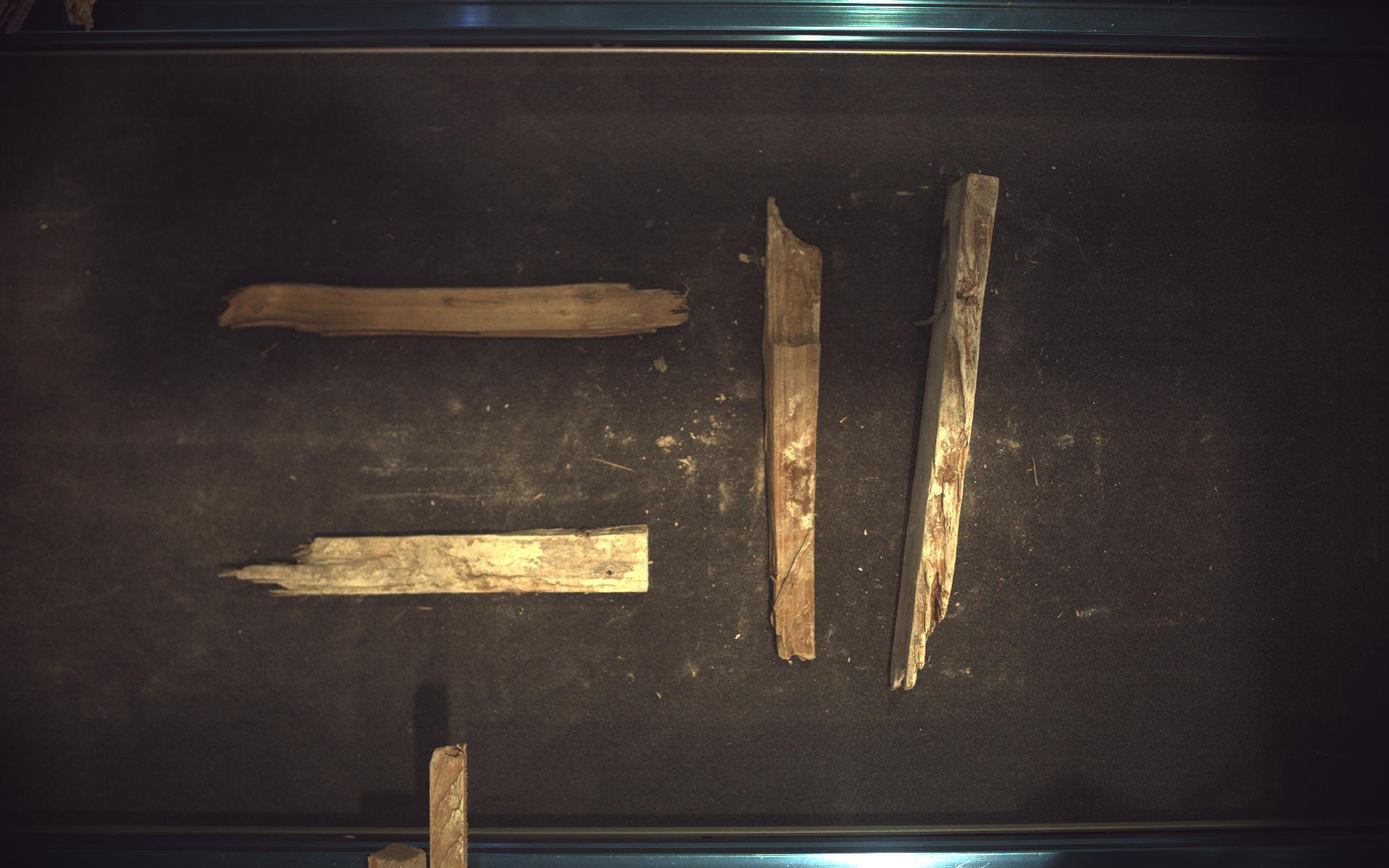wood: (224, 525, 650, 596), (764, 197, 823, 661), (218, 283, 689, 338)
